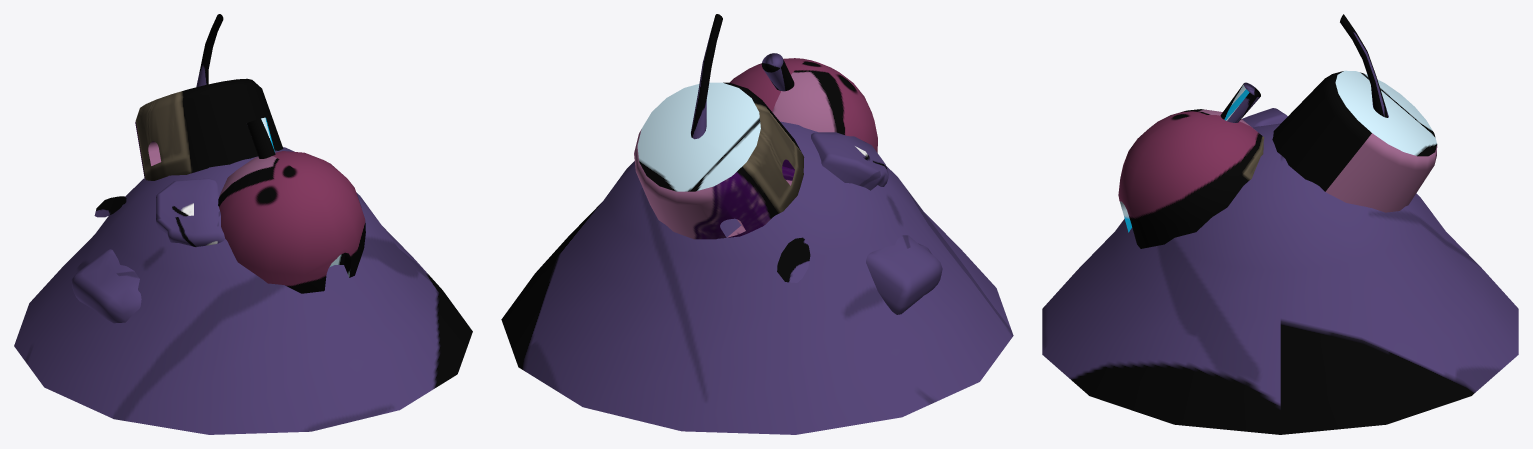
File: CastilloDerrumbado_3.fbx
3 renders of one model, left to right at view 1: azimuth 30°, elevation 25°; view 2: azimuth 150°, elevation 25°; view 3: azimuth 270°, elevation 25°, orthographic. The views are drawn at different scales.
Parts seen in each view (by area): view 1: Castillo21; view 2: Castillo21; view 3: Castillo21.
Boxes of the visible parts, <box> form: Castillo21: <box>14,14,472,434</box>; Castillo21: <box>501,14,1013,434</box>; Castillo21: <box>1042,14,1518,434</box>.
Bounding box in the file's own units: 163 × 118 × 159.
